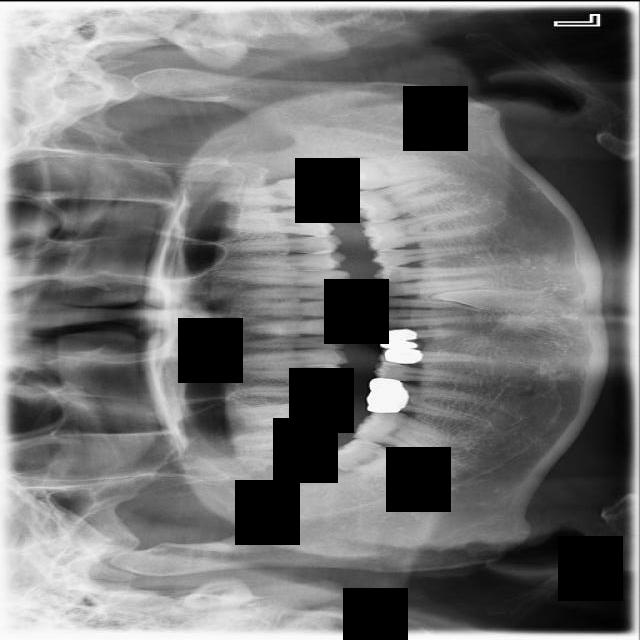3M ESPE Implant: (236, 449, 315, 466)
52: (375, 324, 424, 369), (365, 376, 411, 413)
73: (575, 42, 589, 50)
BioHorizons Implant: (223, 177, 328, 207)
Biomet 3i Implant: (340, 150, 432, 192)
Blue Sky Bio Implant: (345, 174, 456, 227)
Caries: (223, 425, 340, 461)
Implant: (352, 400, 464, 462)
Keystone Dental Implant: (321, 428, 421, 489)
